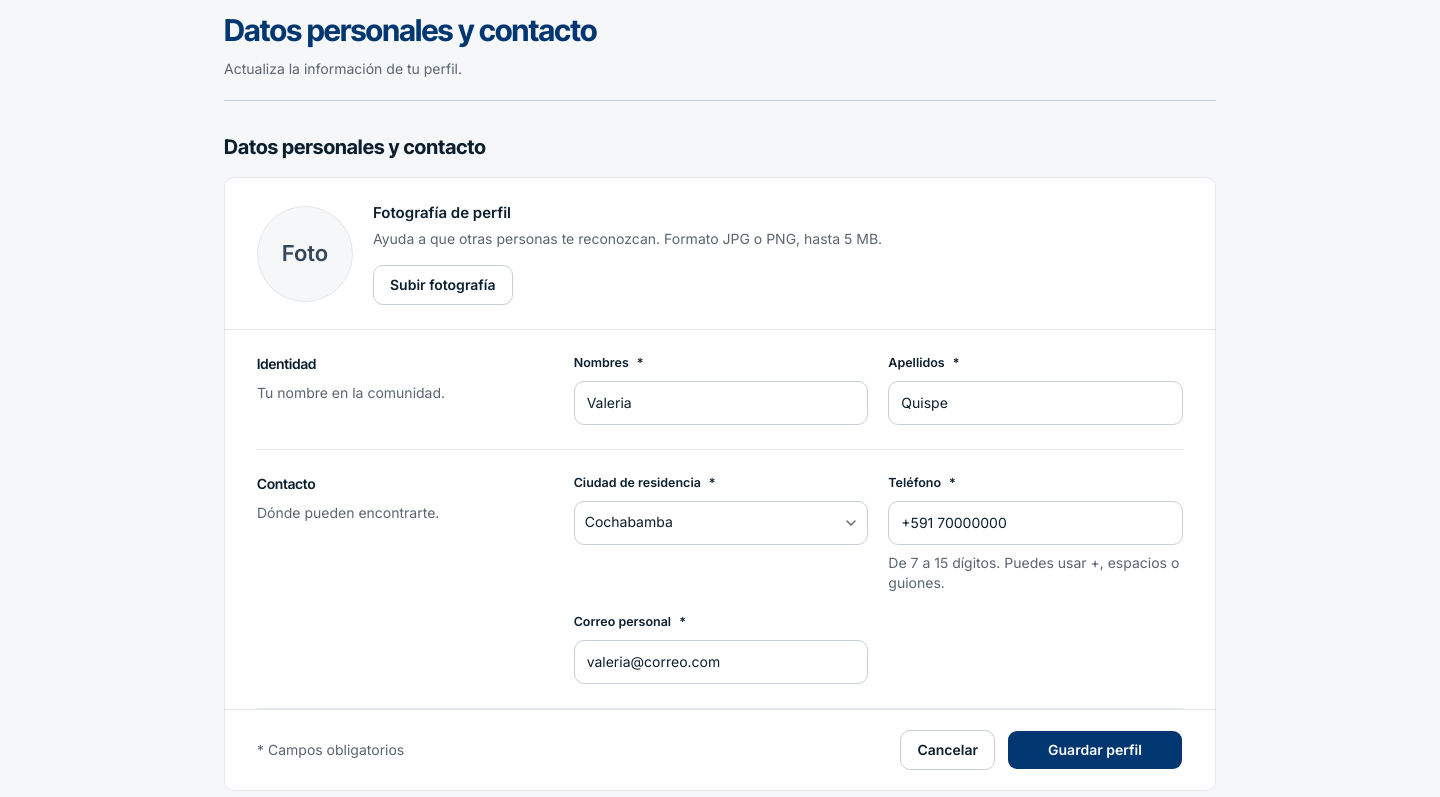
PersonalInfoView › saves the edited data and shows a confirmation
Step 1. Replace the text in the field labelled "Teléfono *" with "+591 71111111" → (1036, 522), box [888, 500, 1183, 544]
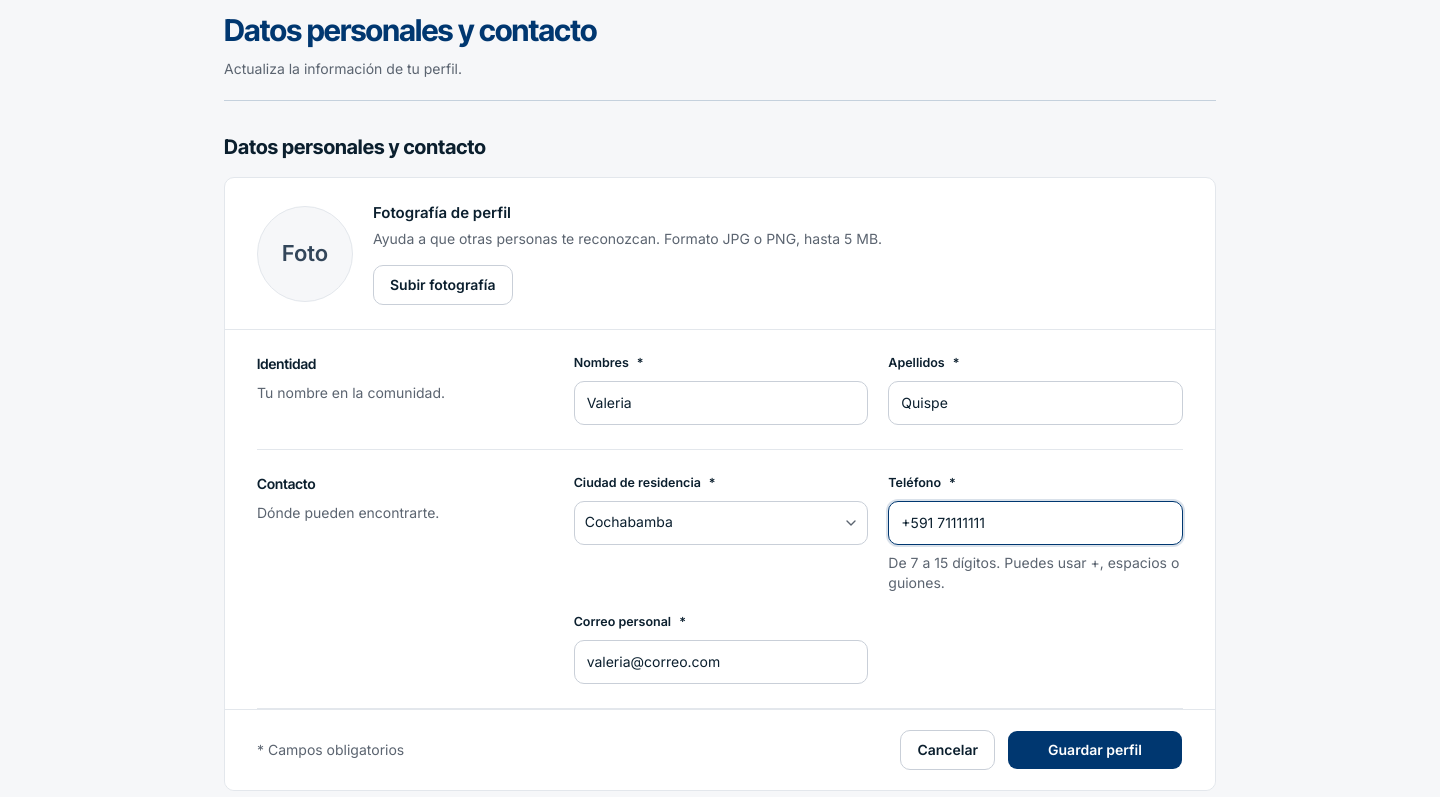
Step 2. Click the dropdown named "Ciudad de residencia" → (629, 522), box [574, 500, 868, 544]
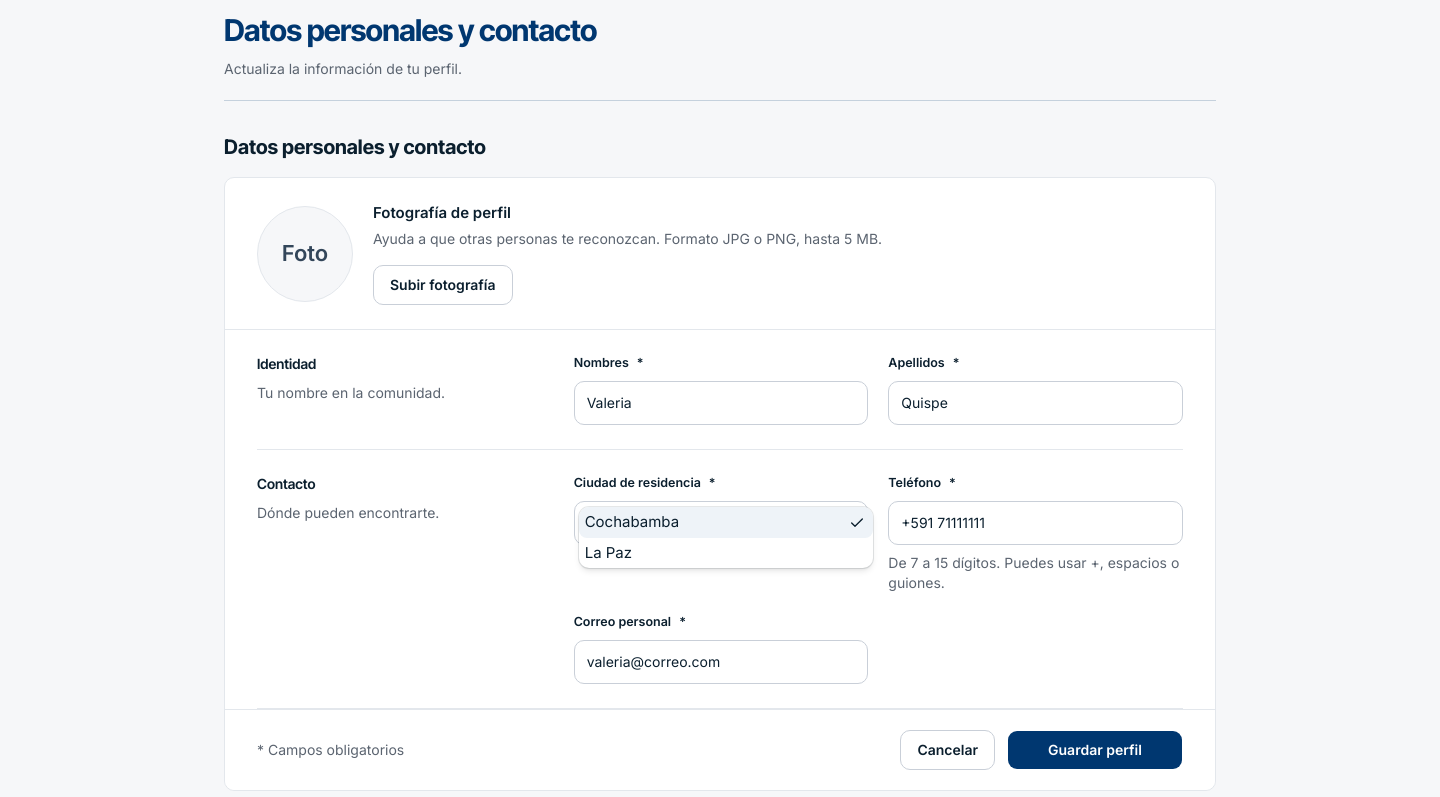
Step 3. Click the option "La Paz" → (608, 552), box [585, 543, 632, 562]
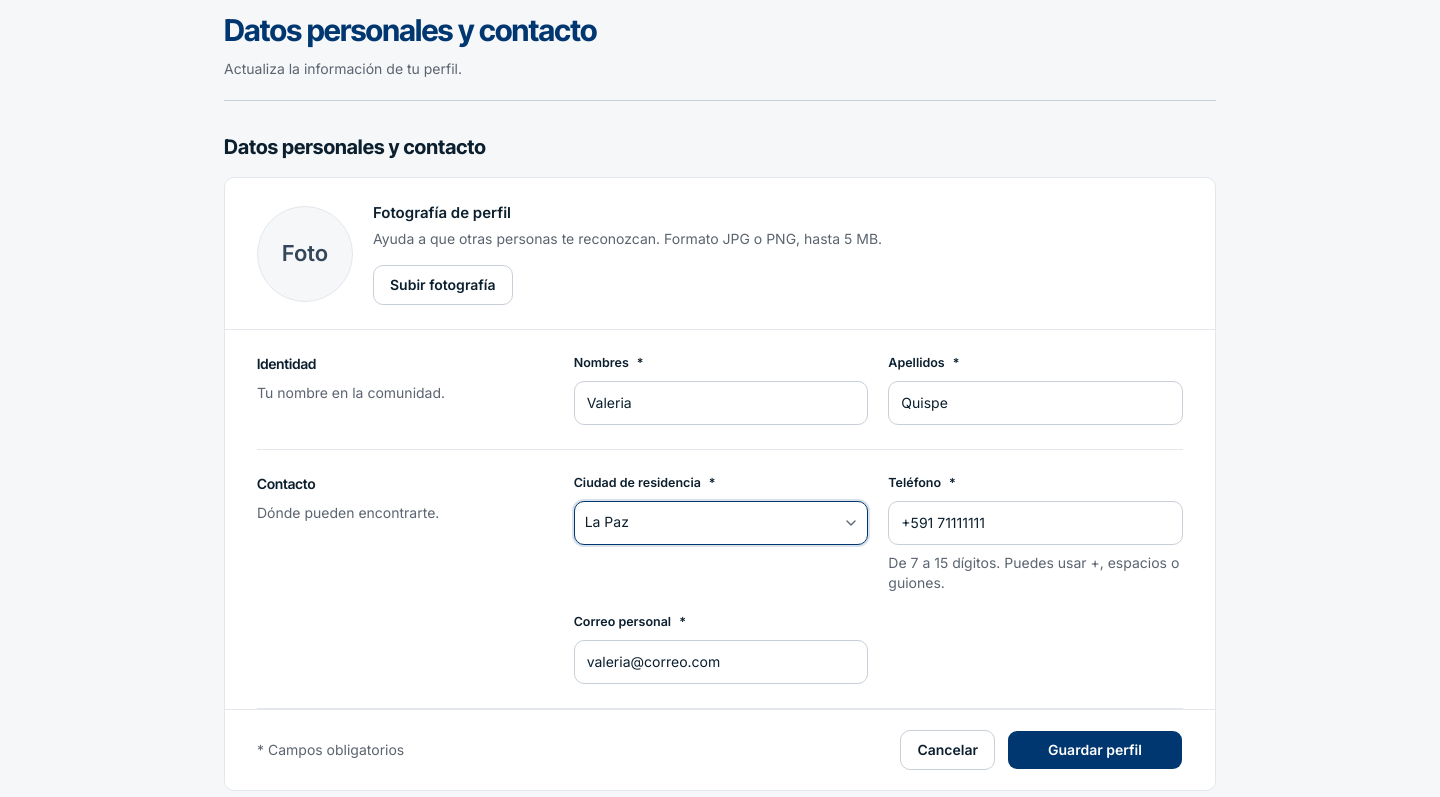
Step 4. Click the button "Guardar perfil" → (1095, 750), box [1007, 730, 1183, 770]
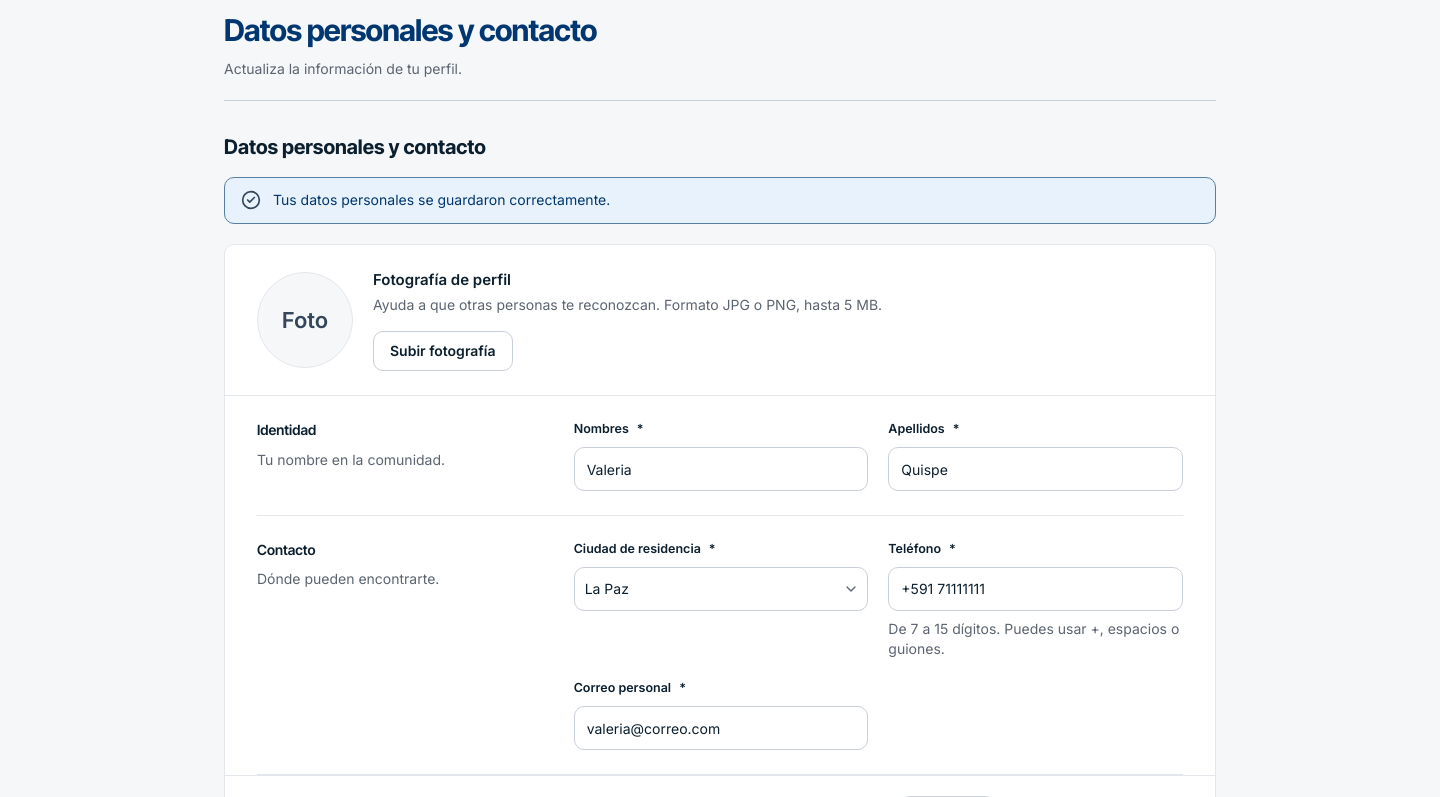
Now the text "Tus datos personales se guardaron correctamente." is shown, box [273, 190, 610, 211]
